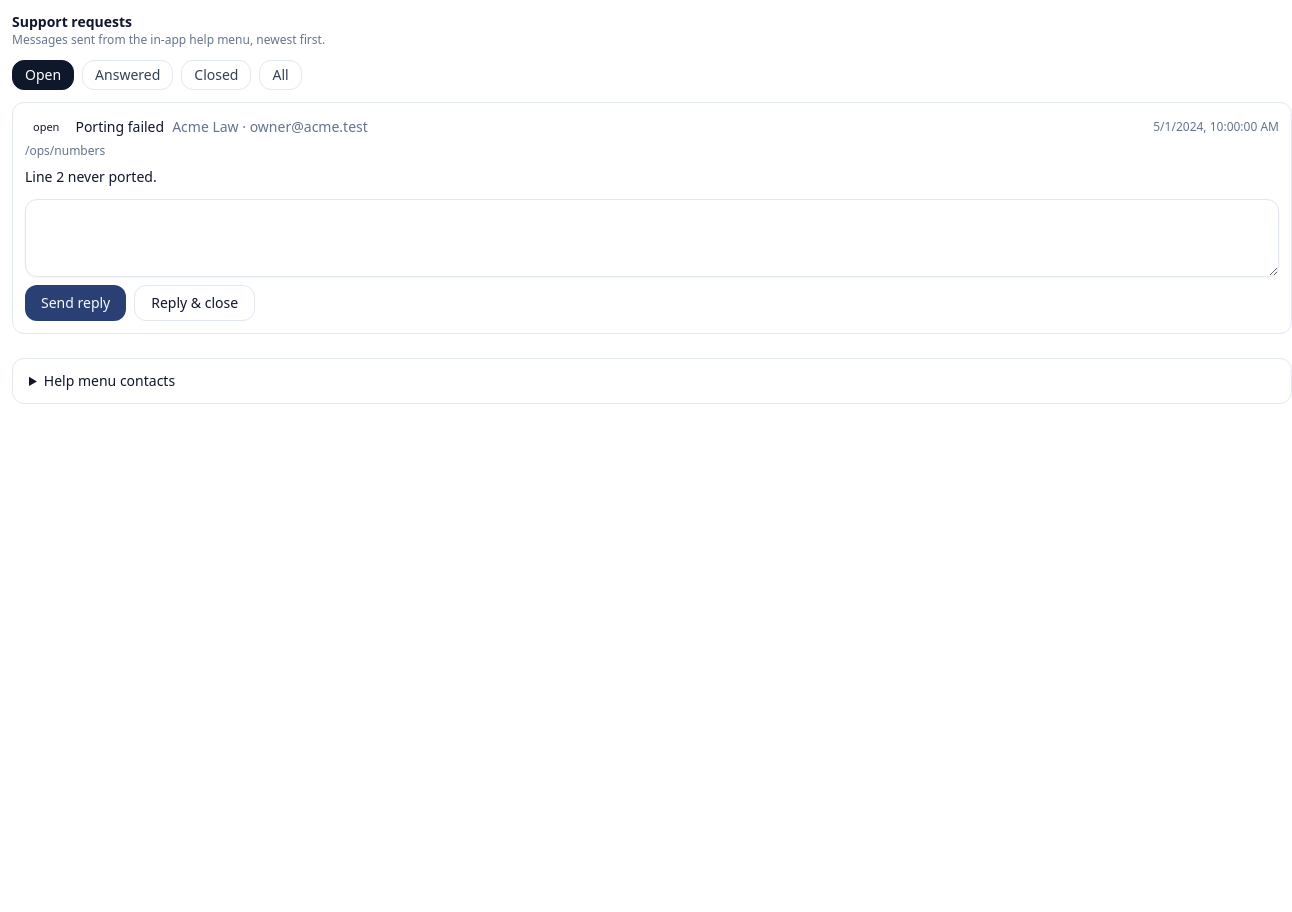
Test: SupportTab › omits the status query parameter for All
The width and height of the screenshot is (1292, 912).
expect the text "Porting failed" is shown: met, box [75,117,164,137]
Click the button "All" at (281, 75), box [260,60,302,90]
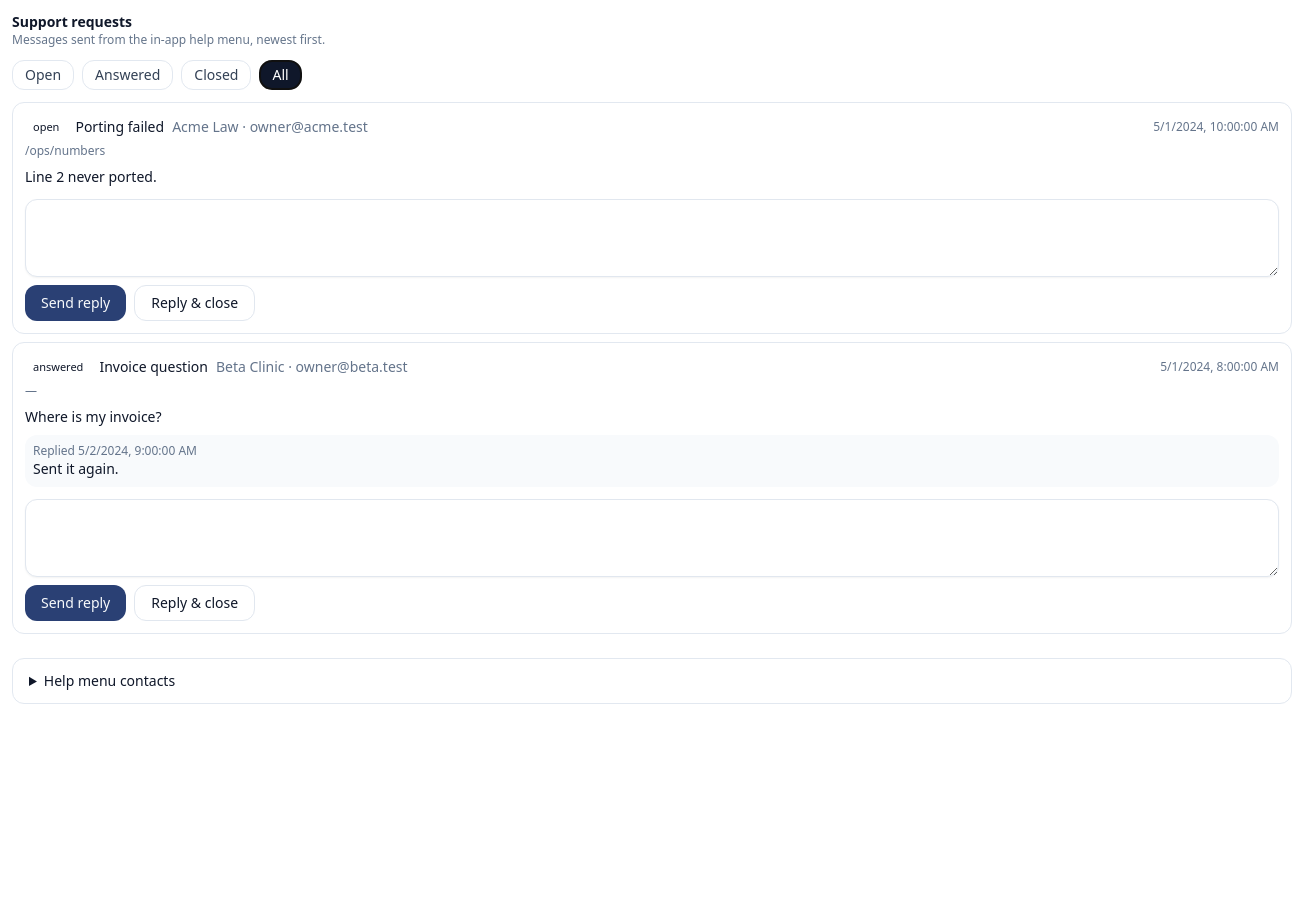
expect the text "Invoice question" is shown: met, box [99,357,208,377]
